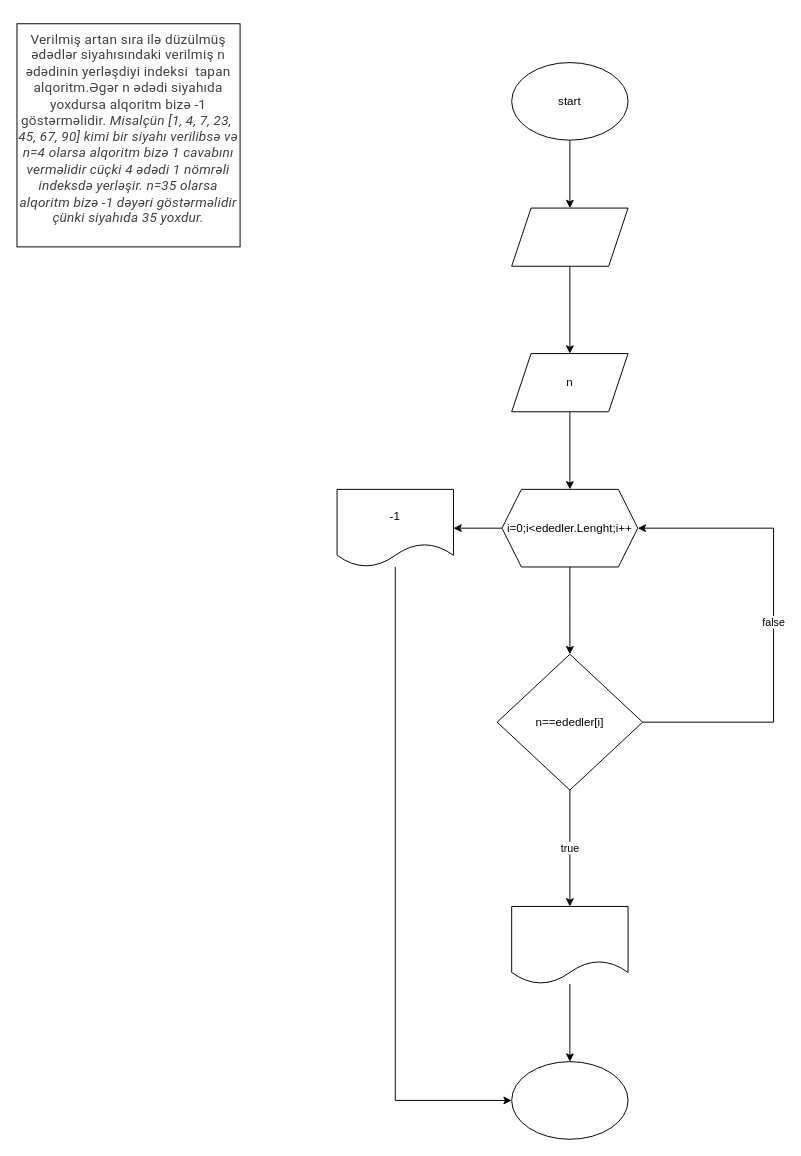
Some shapes in this 801 by 1156 pixel diagram are drawn without their labels. Each missing label, with the centre of its shape:
ededler: the point at 569,236
ededler.Lenght[i]: the point at 569,944
end: the point at 569,1100
